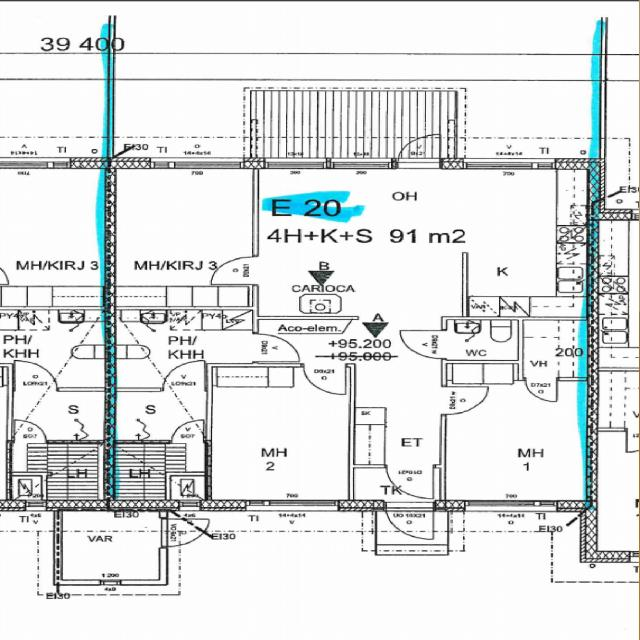door: (386, 501, 434, 544), (396, 128, 440, 168), (387, 464, 433, 498), (160, 518, 210, 546), (440, 386, 488, 414), (253, 333, 300, 361), (211, 256, 258, 284), (399, 330, 445, 358), (304, 362, 345, 393), (163, 360, 205, 390), (526, 376, 558, 401), (172, 419, 203, 444)
